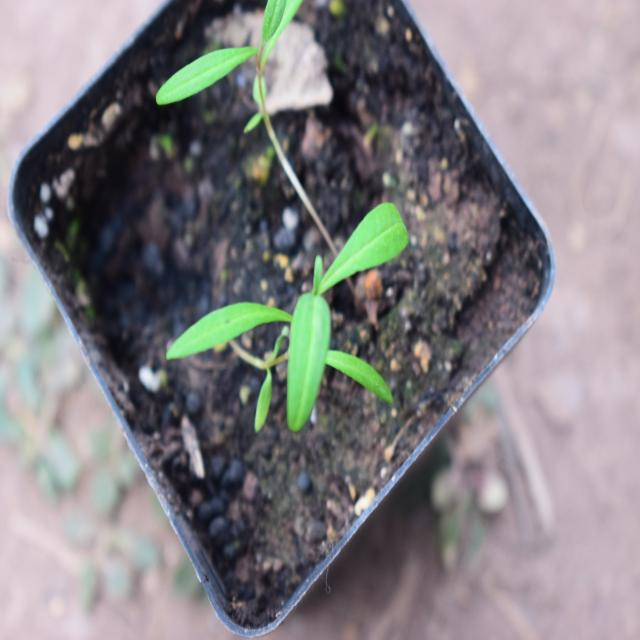white_smart_weed: (168, 183, 420, 451)
